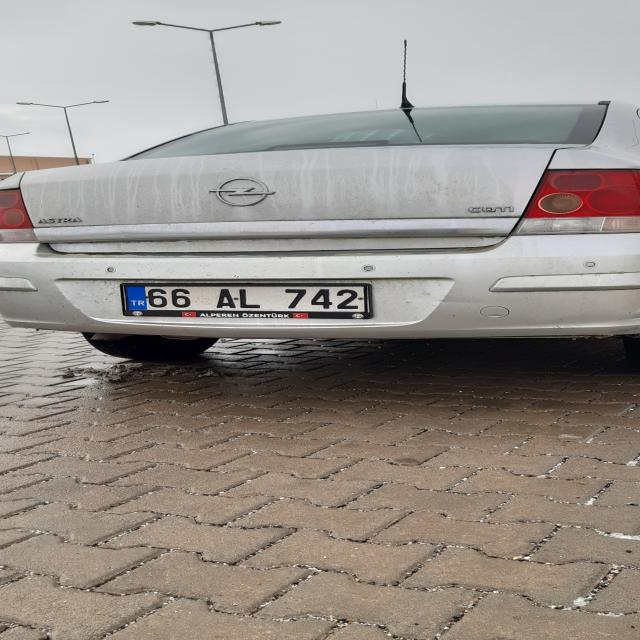plate: (123, 285, 367, 311)
